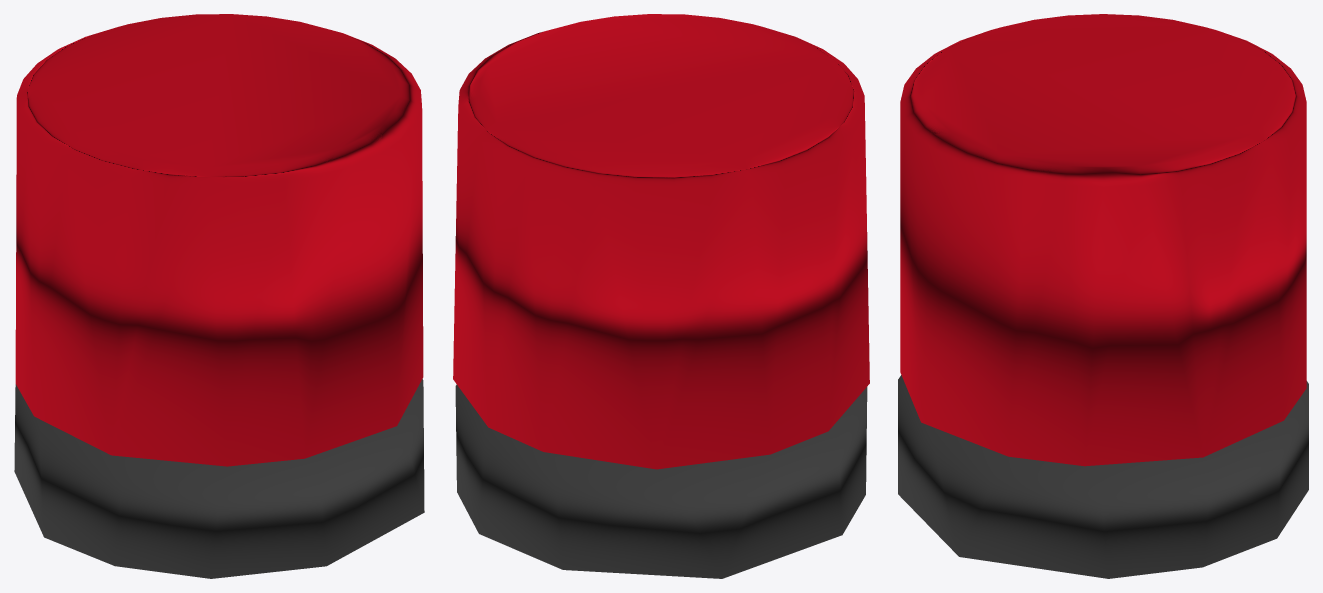
Rendered from beacon.glb.
3 renders of one model, left to right at view 1: azimuth 30°, elevation 25°; view 2: azimuth 150°, elevation 25°; view 3: azimuth 270°, elevation 25°, orthographic.
Visible parts, largest first — view 1: Cylinder.006; view 2: Cylinder.006; view 3: Cylinder.006.
Boxes of the visible parts, left/top/right/bottom form: Cylinder.006: left=14, top=14, right=424, bottom=578; Cylinder.006: left=453, top=14, right=869, bottom=578; Cylinder.006: left=898, top=14, right=1308, bottom=578.
Size of the model in its own units: 2.02 by 2.18 by 2.02.
